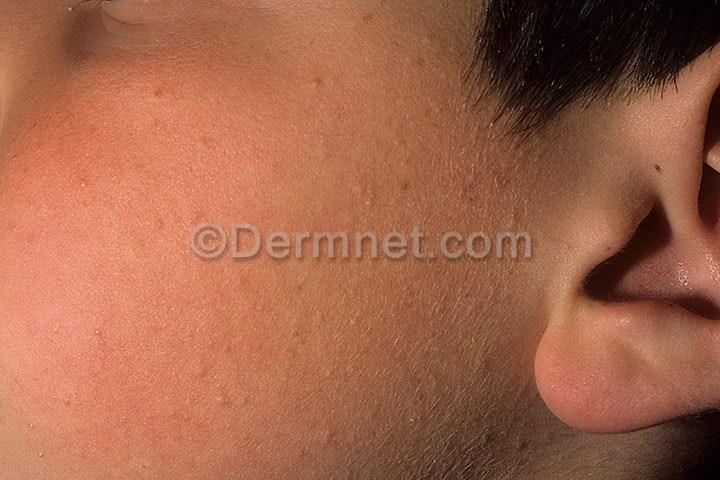edema 1: (155, 16, 534, 473)
